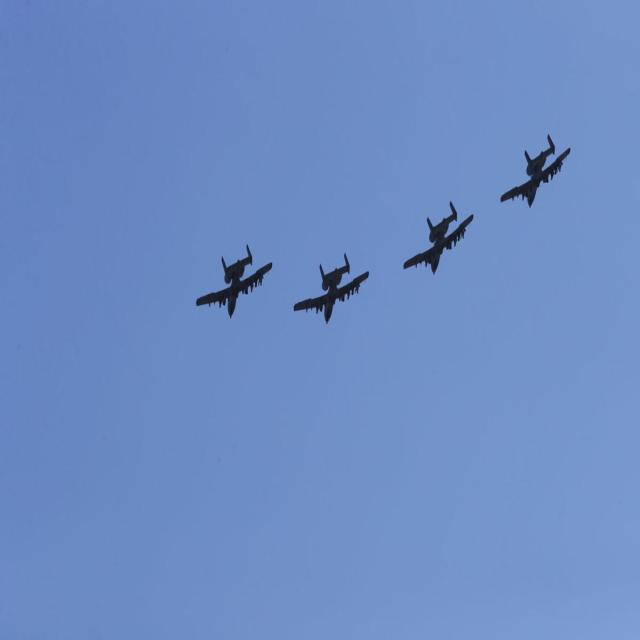MIL_Plane: (195, 243, 272, 319), (293, 252, 370, 324), (403, 200, 474, 275), (500, 134, 571, 208)
